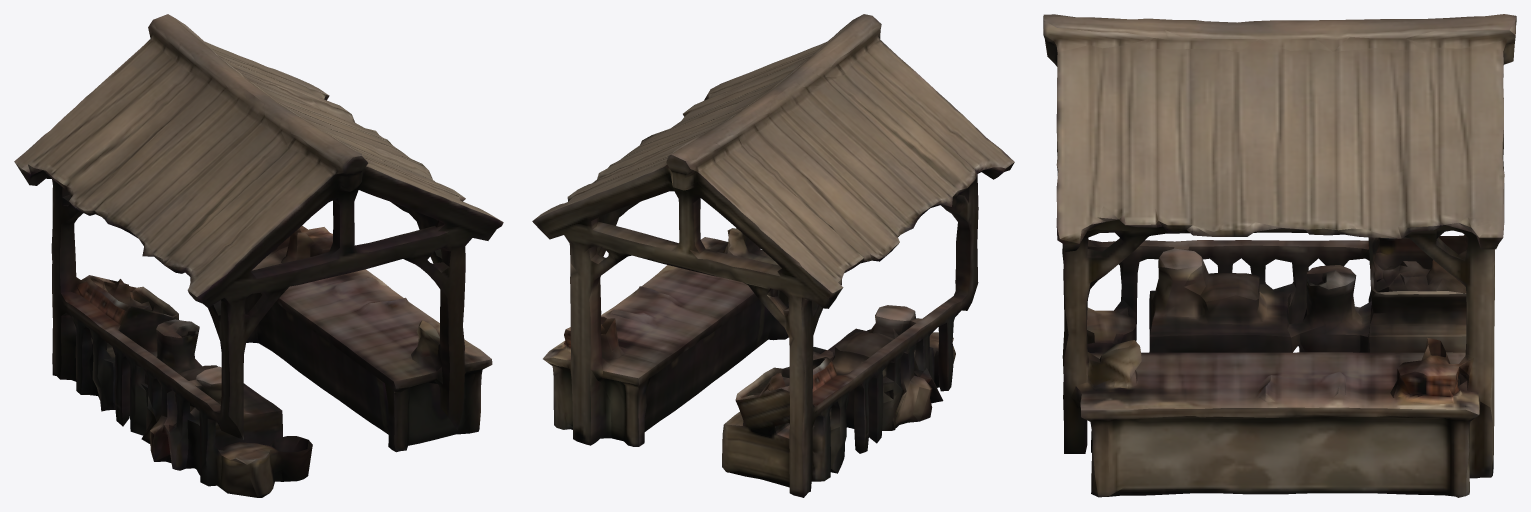
Rendered from market_stall_b.glb.
The picture shows the model from 3 angles, left to right: view 1: azimuth 30°, elevation 25°; view 2: azimuth 150°, elevation 25°; view 3: azimuth 270°, elevation 25°; orthographic projection. The views are drawn at different scales.
Parts seen in each view (by area): view 1: MarketStall; view 2: MarketStall; view 3: MarketStall.
Boxes of the visible parts, left/top/right/bottom form: MarketStall: left=14, top=14, right=503, bottom=497; MarketStall: left=532, top=14, right=1014, bottom=497; MarketStall: left=1043, top=14, right=1516, bottom=497.
Size of the model in its own units: 2.43 by 2.5 by 2.66.
Materials: 1 (1 with a texture image).
